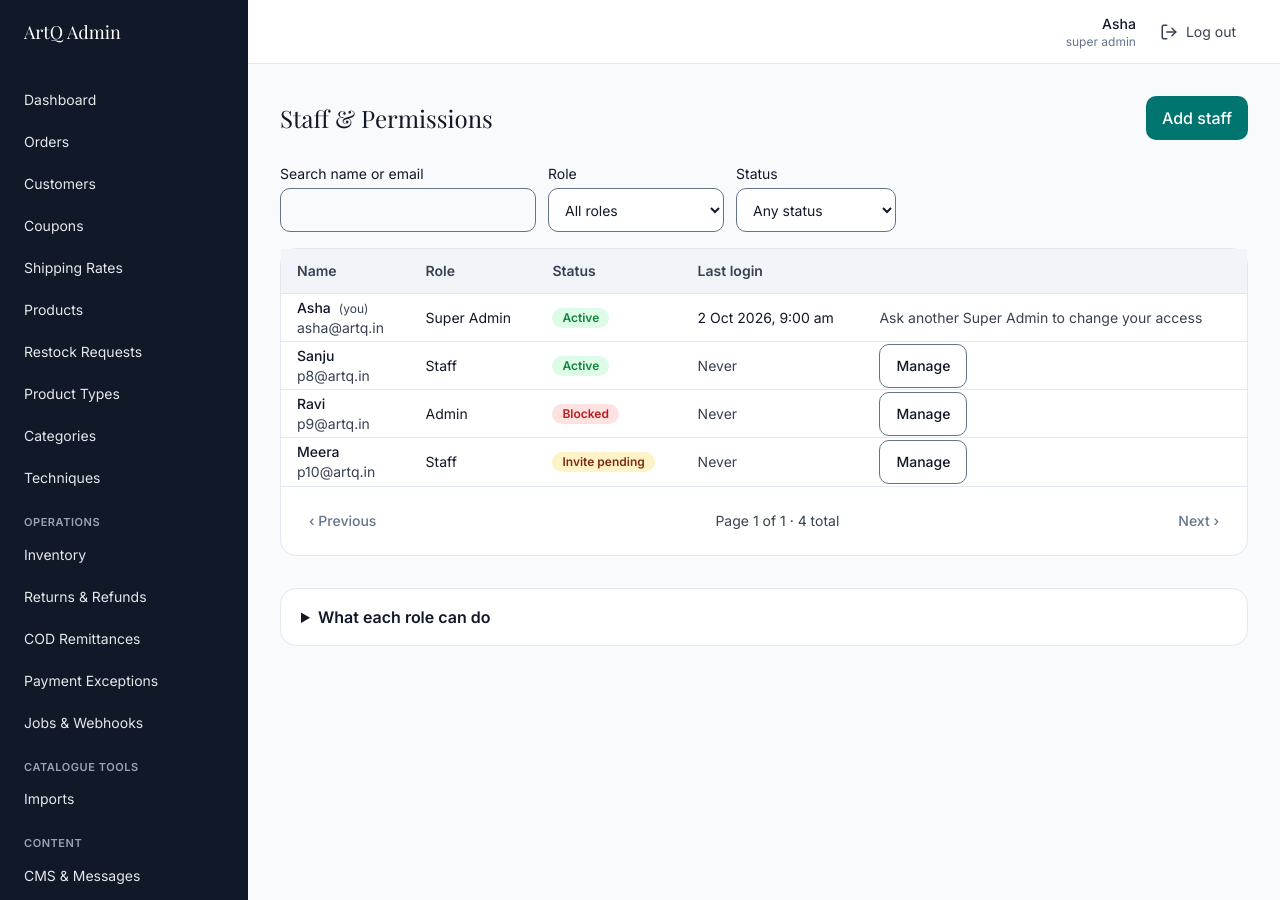
Manage staff › log out everywhere shows the session count; resend invite for someone without a password
This screenshot has width=1280, height=900.
Click the button with aria-label "Manage Sanju".
click(923, 366)  # box 879,344 -> 967,388
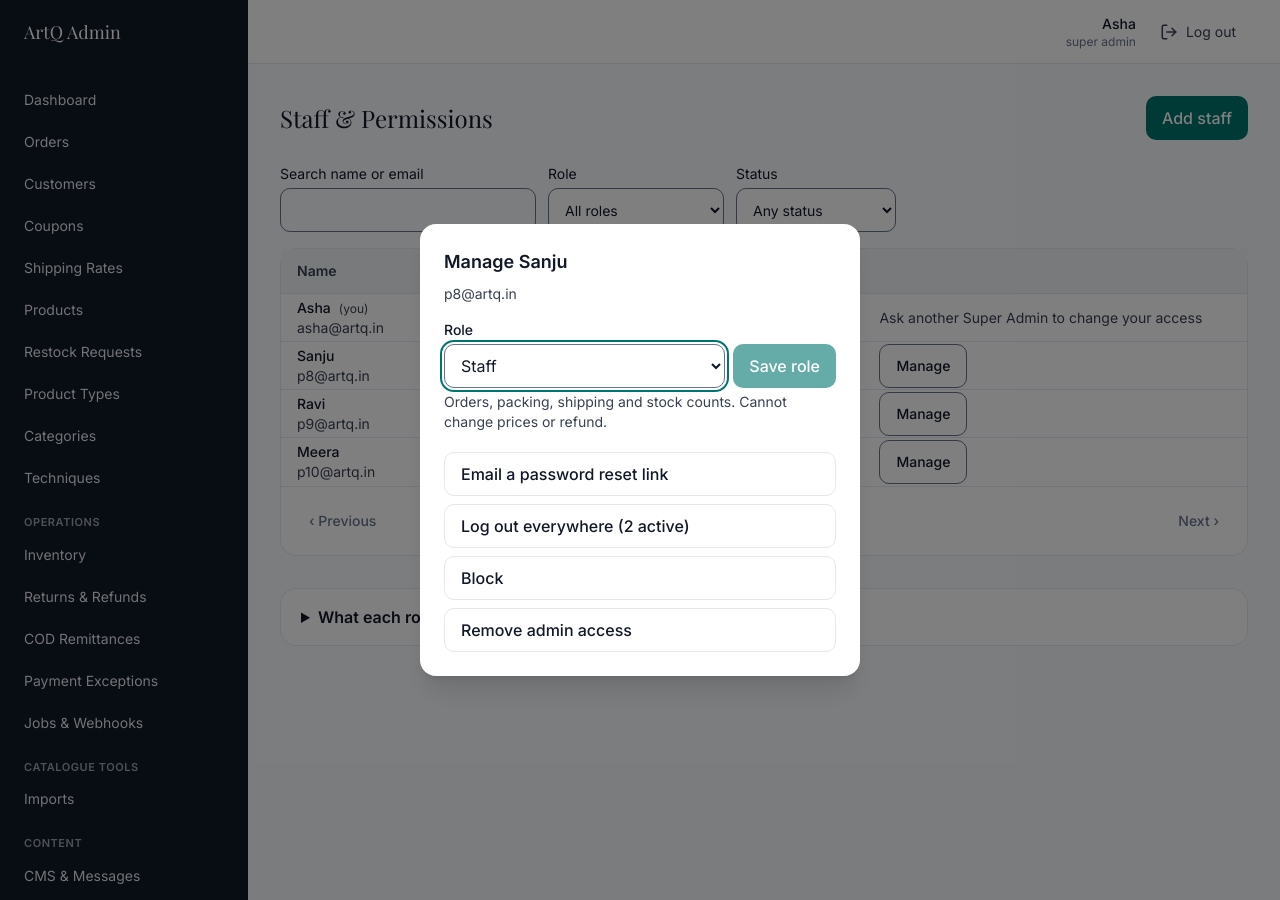
Click the button "Log out everywhere (2 active)".
click(640, 526)  # box 444,504 -> 836,548
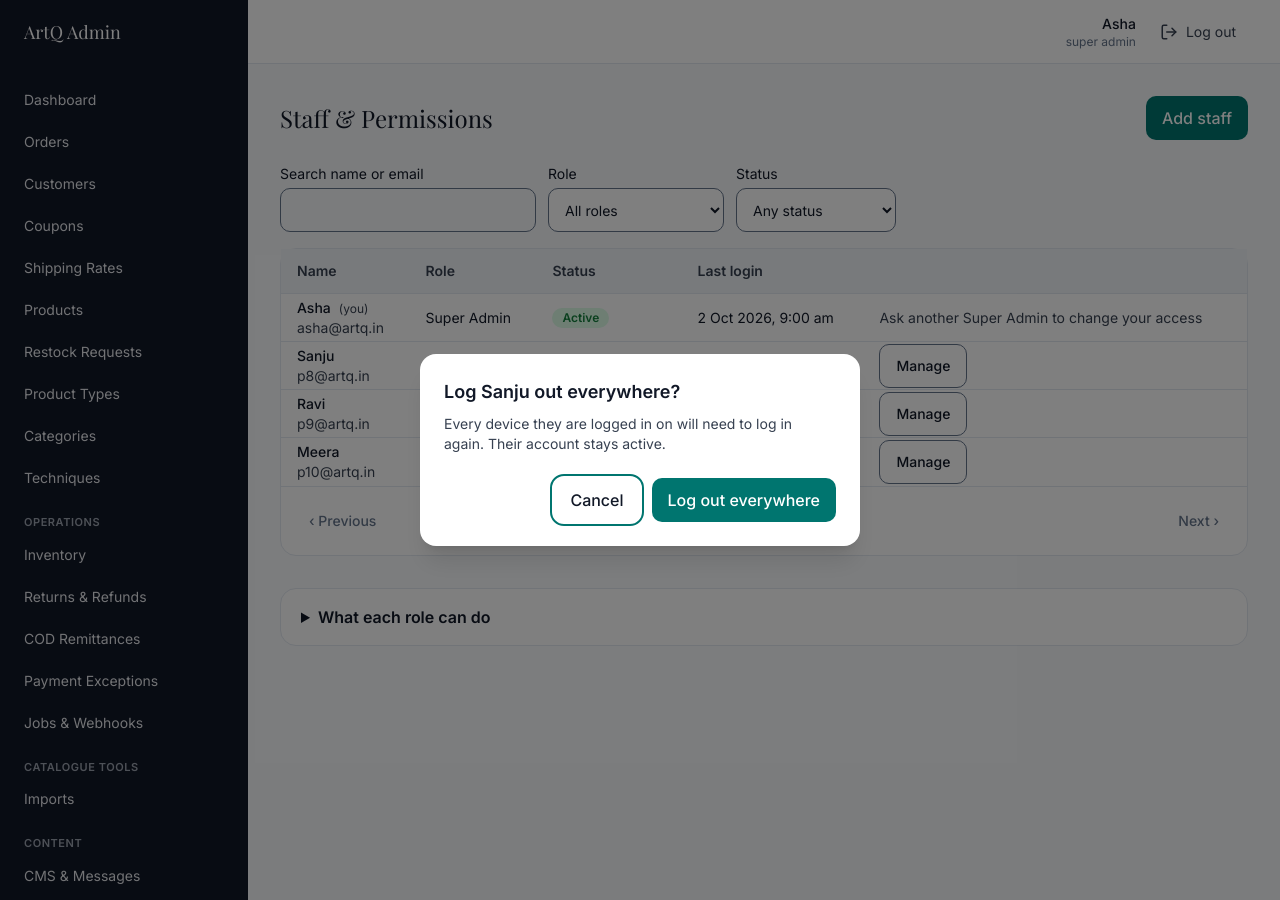
Click the button "Log out everywhere".
click(744, 500)  # box 652,478 -> 836,522
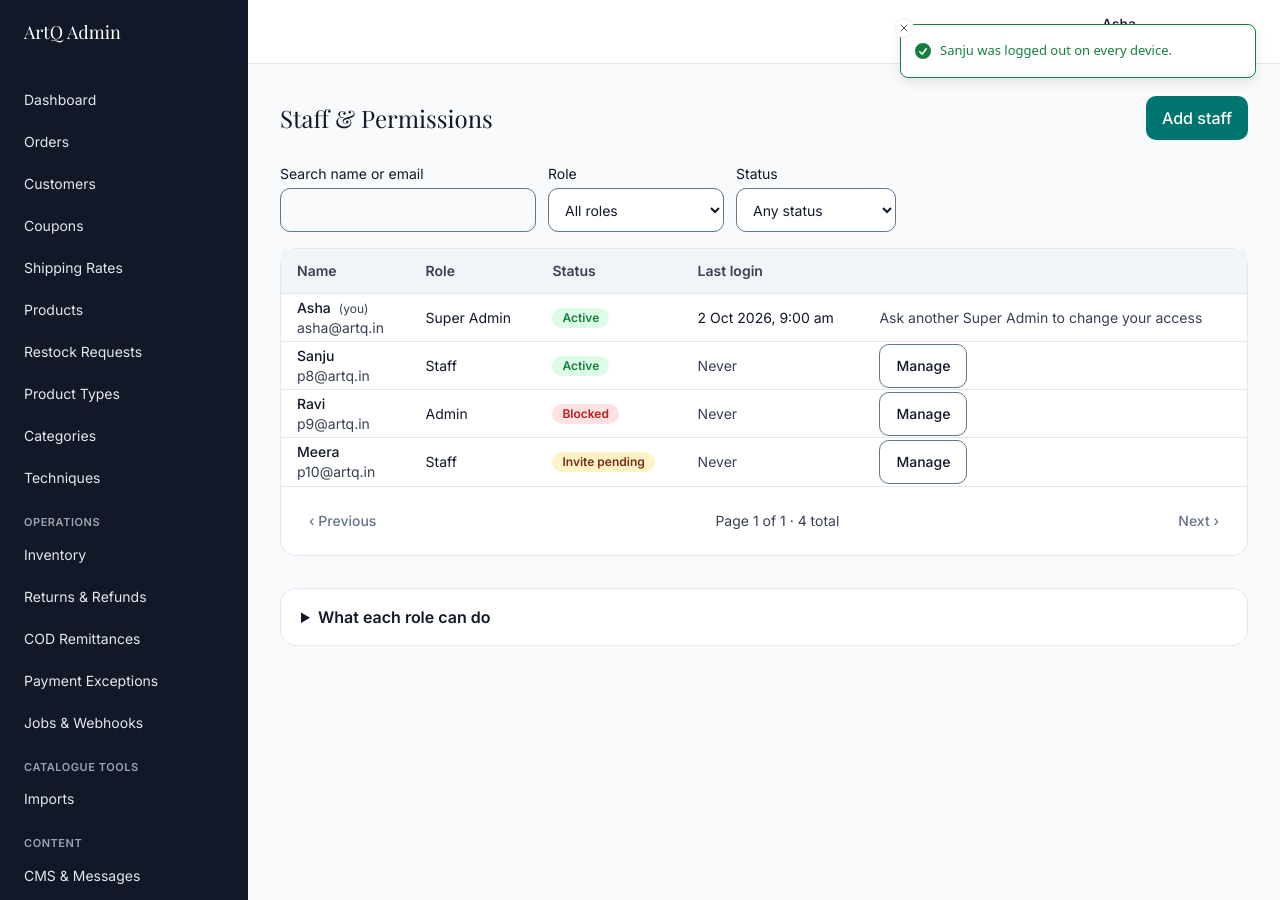
Check: the text "Sanju was logged out on every device." is shown, box 940,41 -> 1172,60
